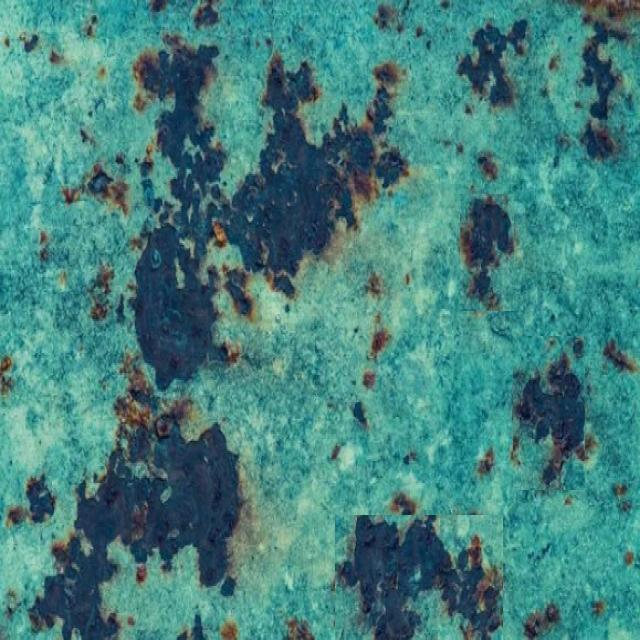Corrosion: (133, 34, 251, 382), (75, 368, 241, 596), (252, 62, 405, 276), (260, 54, 356, 294), (337, 516, 504, 640), (133, 34, 226, 228), (134, 221, 214, 390), (185, 424, 242, 588), (517, 354, 586, 486), (582, 20, 629, 160), (462, 196, 515, 310), (458, 20, 528, 106), (30, 578, 100, 640), (226, 173, 267, 272)
